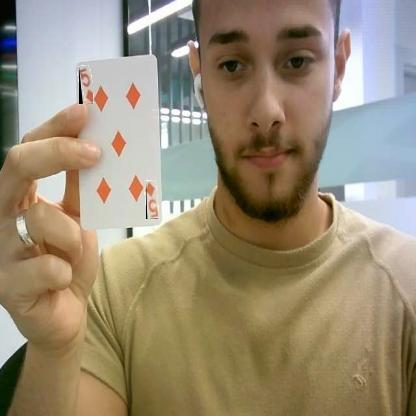5D: (79, 66, 93, 104), (146, 181, 158, 219)
